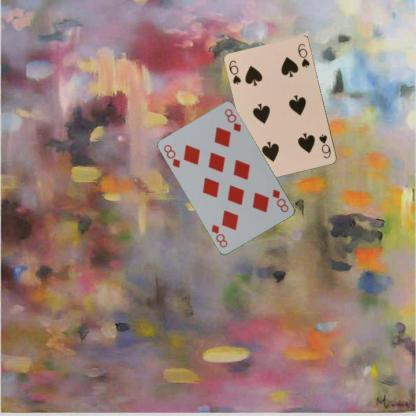6s: (226, 58, 243, 86), (316, 132, 332, 160)
8d: (161, 142, 182, 169), (270, 186, 290, 214)
